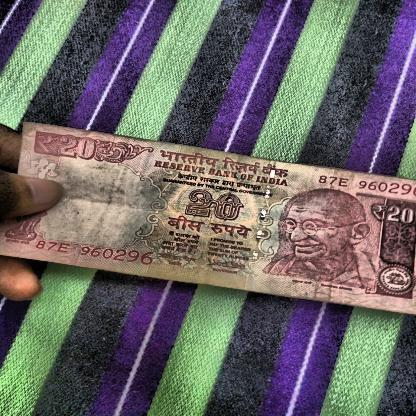Rs20: (175, 185, 259, 227), (30, 129, 106, 166), (366, 202, 416, 230)
